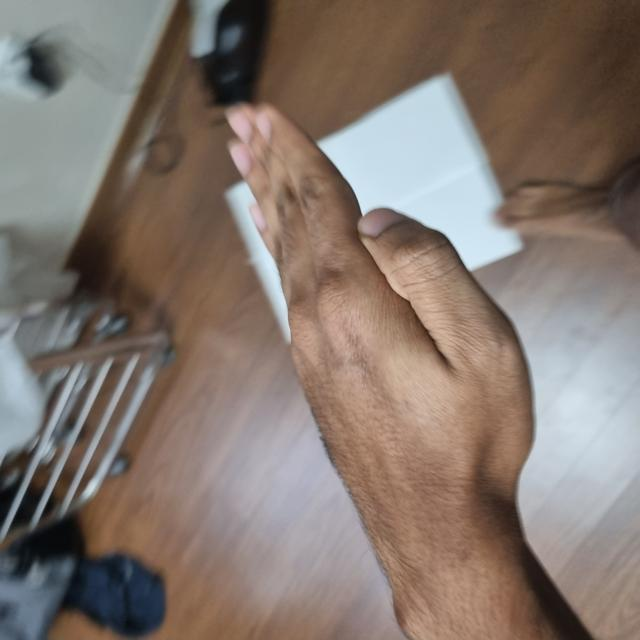Paper: (118, 229, 533, 531)
